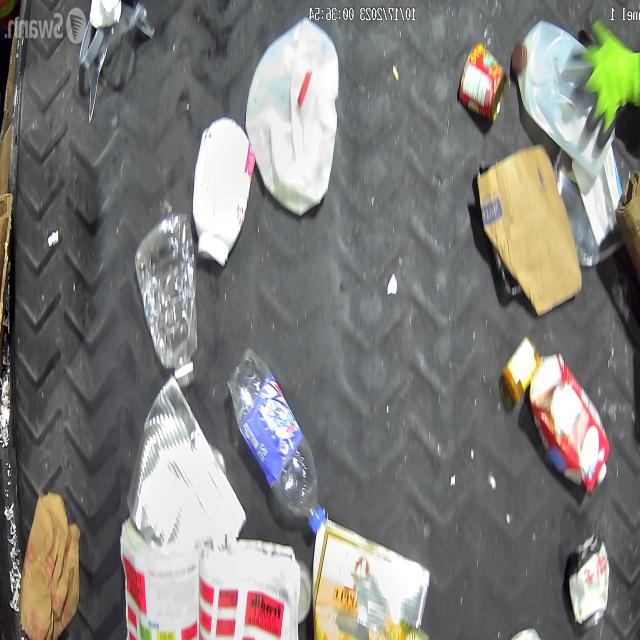can: (127, 372, 245, 546), (456, 41, 504, 125)
milk_jug: (244, 16, 338, 218), (511, 21, 615, 175)
non_white_jug: (314, 516, 429, 640), (528, 354, 610, 494)
plastic_bottle: (226, 348, 322, 528), (135, 215, 196, 381)
